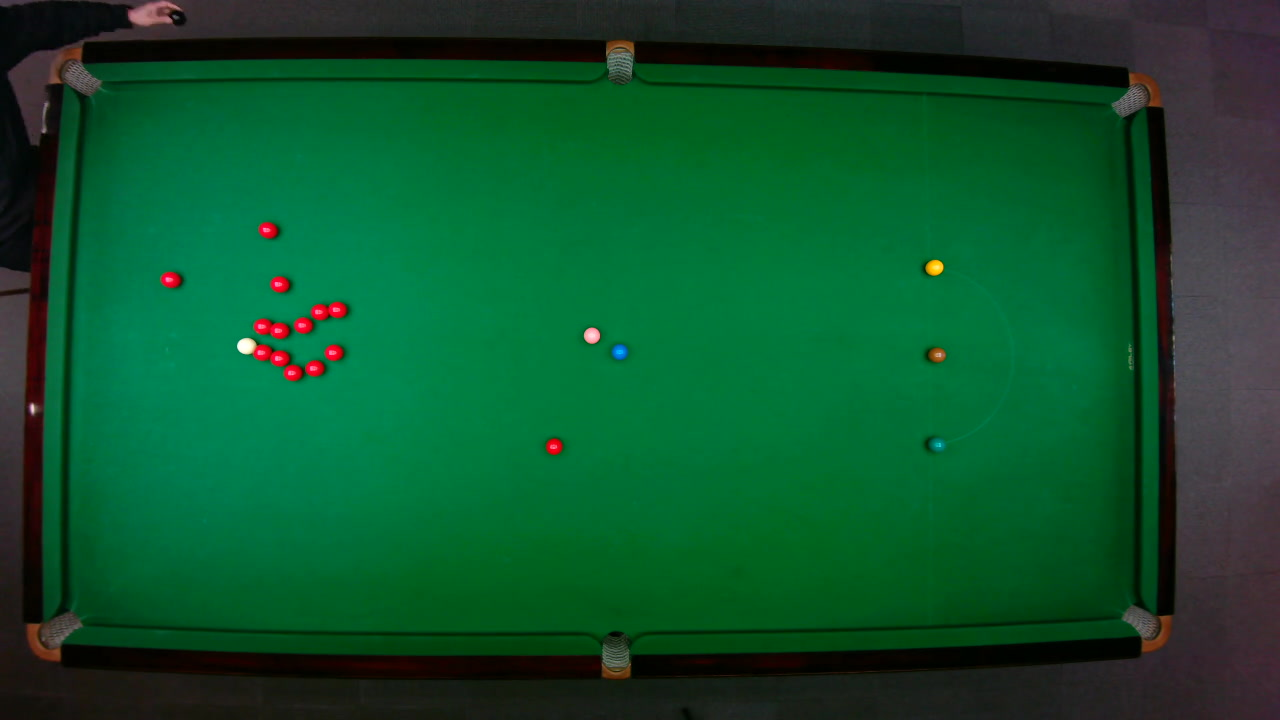bag: (24, 609, 83, 661), (46, 44, 102, 97), (1119, 602, 1171, 652), (1108, 71, 1161, 118), (600, 629, 629, 680), (605, 38, 633, 85)
black: (168, 9, 188, 27)
blue: (610, 343, 628, 360)
brown: (926, 346, 946, 362)
green: (926, 435, 946, 452)
pink: (581, 325, 601, 344)
red: (303, 358, 325, 377), (159, 270, 182, 288), (257, 220, 278, 239), (327, 299, 348, 318), (292, 315, 314, 333), (268, 348, 290, 366), (268, 320, 290, 338), (251, 317, 273, 335), (268, 275, 290, 293), (323, 343, 344, 361), (282, 363, 303, 381), (544, 436, 563, 455), (252, 343, 272, 361), (309, 302, 329, 320)
white: (235, 336, 256, 354)
yellow: (923, 258, 944, 276)
zone: (926, 265, 1013, 445)
